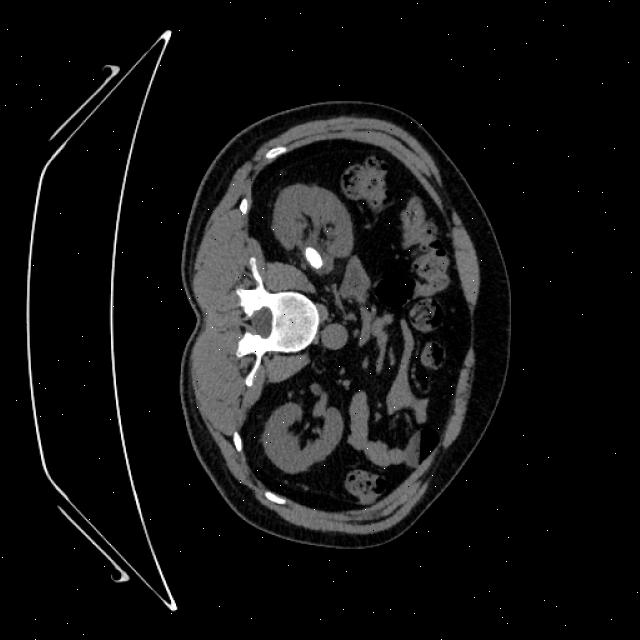kidneystone: (304, 246, 322, 270)
